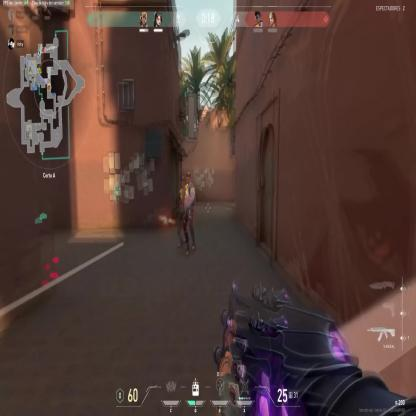enemy: (181, 171, 196, 258)
enemy_head: (186, 172, 191, 184)
